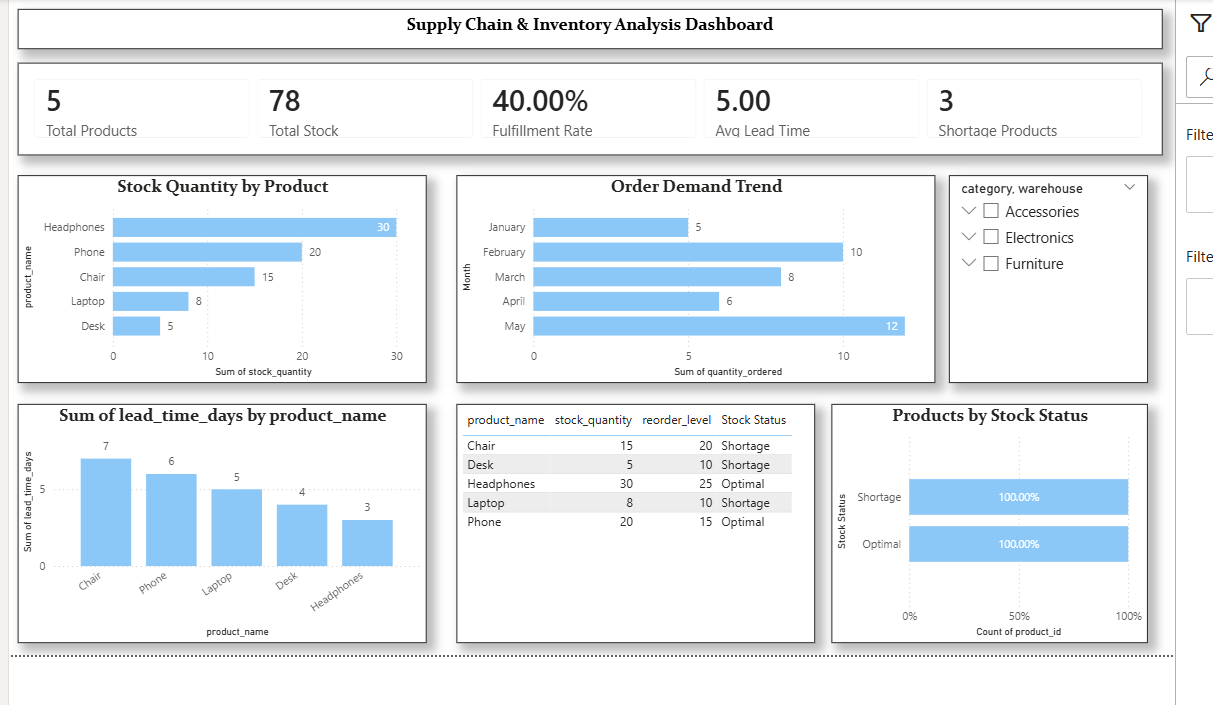

The dashboard page shown, as its layout file describes it:
{"tool":"powerbi","page":{"name":"Page 1","canvas":[1280,720],"ordinal":0},"visuals":[{"type":"textbox","box":[9.6,11,1257,43.9],"z":0},{"type":"cardVisual","fields":{"Data":["Products.Total Products","Inventory.Total Stock","Orders.Fulfillment Rate","Suppliers.Avg Lead Time","Inventory.Shortage Products"]},"box":[9.6,70,1257,101.5],"z":1},{"type":"barChart","title":"Stock Quantity by Product","fields":{"Category":["Products.product_name"],"Y":["Sum(Inventory.stock_quantity)"]},"box":[9.6,193.5,448.7,227.8],"z":2},{"type":"clusteredBarChart","title":"Order Demand Trend","fields":{"Y":["Sum(Orders.quantity_ordered)"],"Category":["Orders.order_date.Variation.Date Hierarchy.Month"]},"box":[491.3,193.5,525.6,227.8],"z":3},{"type":"columnChart","fields":{"Category":["Products.product_name"],"Y":["Sum(Suppliers.lead_time_days)"]},"box":[9.6,444.6,448.7,262.1],"z":4},{"type":"tableEx","fields":{"Values":["Products.product_name","Inventory.stock_quantity","Products.reorder_level","Inventory.Stock Status"]},"box":[491.3,444.6,393.8,262.1],"z":5},{"type":"slicer","fields":{"Values":["Products.category","Inventory.warehouse"]},"box":[1031.9,193.5,218.2,227.8],"z":6},{"type":"hundredPercentStackedBarChart","title":"Products by Stock Status","fields":{"Category":["Inventory.Stock Status"],"Y":["CountNonNull(Inventory.product_id)"]},"box":[902.9,444.6,347.2,262.1],"z":7}]}

Visuals, with their boxes in screenshot pixels (x1, y1, x2, y2):
textbox: 21, 10, 1154, 49
cardVisual - Products.Total Products x Inventory.Total Stock: 21, 63, 1154, 155
"Stock Quantity by Product" barChart: 21, 174, 426, 380
"Order Demand Trend" clusteredBarChart: 456, 174, 929, 380
columnChart - Products.product_name x Sum(Suppliers.lead_time_days): 21, 401, 426, 637
tableEx - Products.product_name x Inventory.stock_quantity: 456, 401, 810, 637
slicer - Products.category x Inventory.warehouse: 943, 174, 1140, 380
"Products by Stock Status" hundredPercentStackedBarChart: 827, 401, 1140, 637
